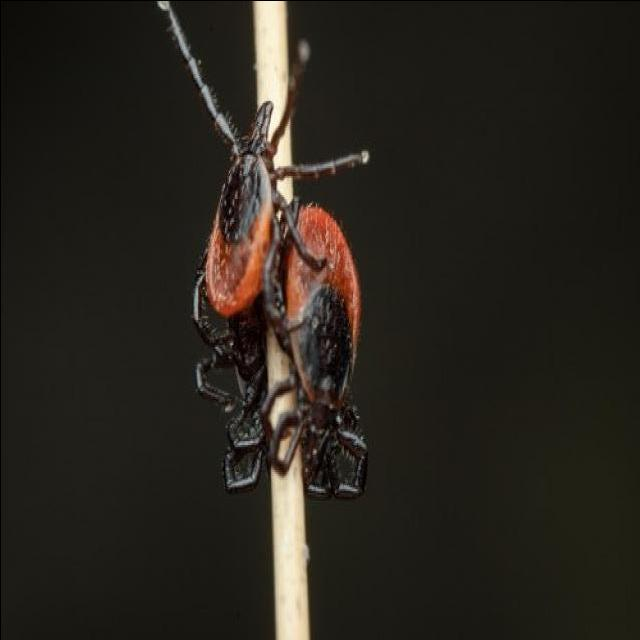Ixodes Ricinus-F: (155, 0, 369, 325), (268, 200, 367, 498)
